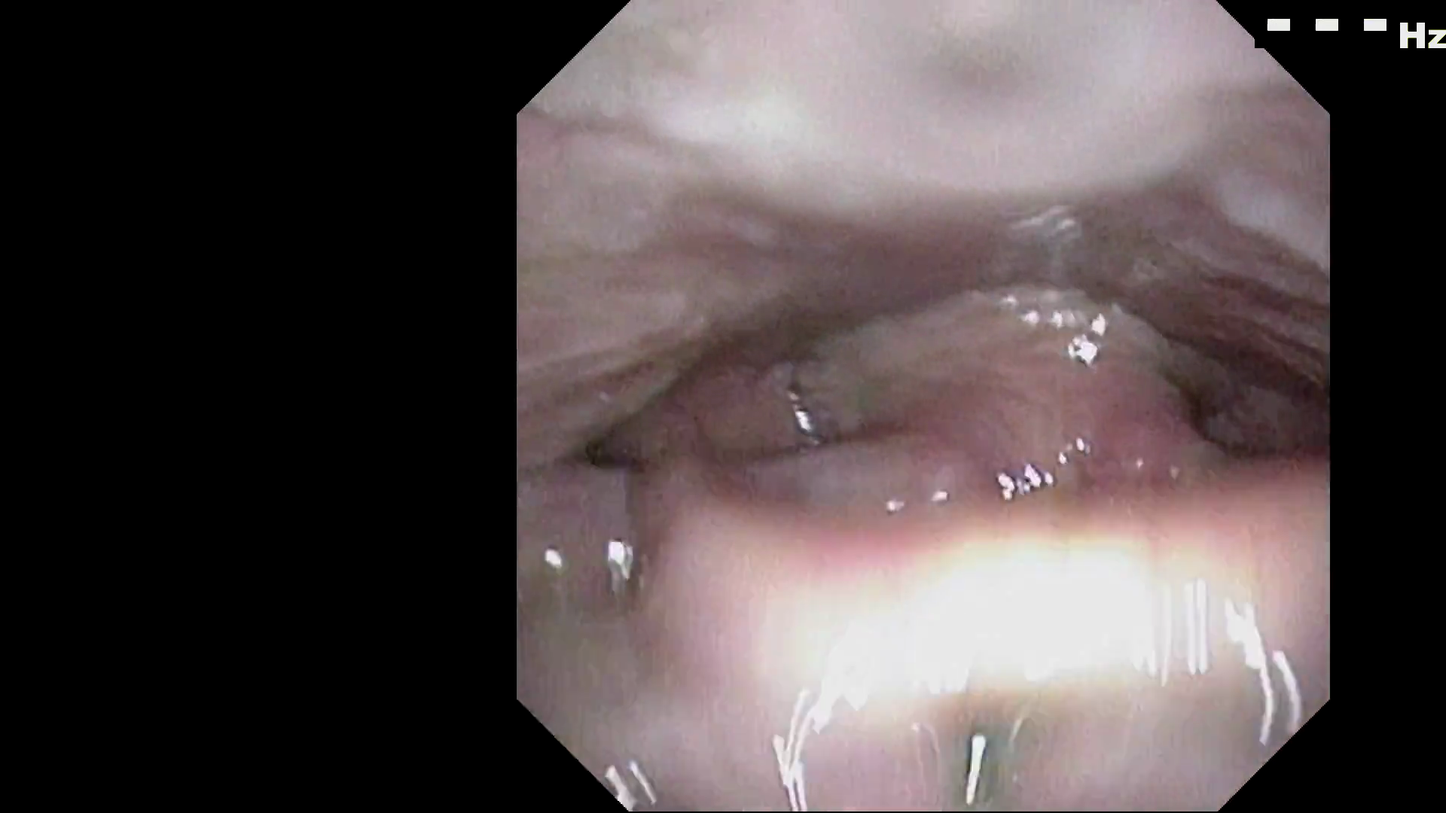epiglottis: (727, 510, 1277, 678)
